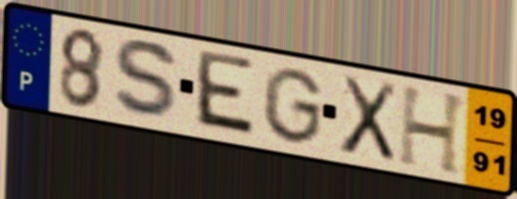8: (57, 26, 108, 111)
E: (191, 47, 258, 142)
G: (259, 65, 325, 148)
H: (396, 83, 471, 179)
S: (110, 36, 184, 123)
X: (337, 72, 400, 165)
